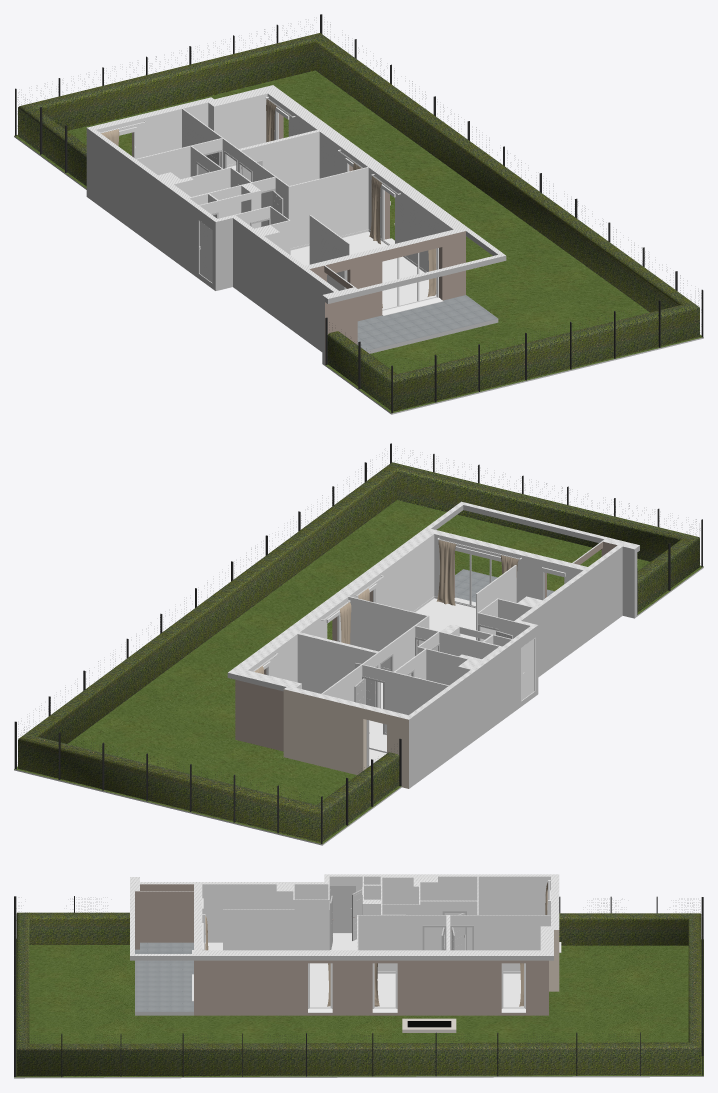
The picture shows the model from 3 angles, top to bottom: view 1: azimuth 30°, elevation 25°; view 2: azimuth 150°, elevation 25°; view 3: azimuth 270°, elevation 25°; orthographic projection. The views are drawn at different scales.
Parts seen in each view (by area): view 1: masonry_01, hedge_01, ground_garden_01, section_face_01, ground_terrace_01, fence_square_01, ground_living_01, door_07, window_french_window_doble_01; view 2: masonry_01, hedge_01, ground_garden_01, section_face_01, fence_square_01, ground_living_01, curtain_05, ground_terrace_01, door_07; view 3: masonry_01, ground_garden_01, hedge_01, section_face_01, ground_terrace_01, fence_square_01, door_07, ground_living_01, ventilacion_01, walltiles_simple_01, ground_bed_02, ground_bed_01 (+6 smaller).
Part boxes in pixels (left/top/right/bottom): masonry_01: left=14, top=93, right=703, bottom=414; hedge_01: left=18, top=33, right=699, bottom=411; ground_garden_01: left=14, top=70, right=703, bottom=413; section_face_01: left=87, top=85, right=505, bottom=298; ground_terrace_01: left=357, top=295, right=497, bottom=350; fence_square_01: left=15, top=14, right=703, bottom=413; ground_living_01: left=290, top=231, right=436, bottom=309; door_07: left=198, top=220, right=212, bottom=283; window_french_window_doble_01: left=382, top=248, right=443, bottom=315; masonry_01: left=14, top=505, right=703, bottom=845; hedge_01: left=18, top=462, right=699, bottom=842; ground_garden_01: left=14, top=500, right=703, bottom=844; section_face_01: left=228, top=501, right=639, bottom=719; fence_square_01: left=14, top=443, right=702, bottom=843; ground_living_01: left=415, top=598, right=475, bottom=639; curtain_05: left=436, top=540, right=518, bottom=605; ground_terrace_01: left=455, top=569, right=554, bottom=602; door_07: left=521, top=637, right=535, bottom=701; masonry_01: left=14, top=876, right=703, bottom=1078; ground_garden_01: left=14, top=939, right=703, bottom=1077; hedge_01: left=16, top=912, right=701, bottom=1076; section_face_01: left=130, top=874, right=559, bottom=955; ground_terrace_01: left=135, top=942, right=193, bottom=1011; fence_square_01: left=14, top=896, right=703, bottom=1077; door_07: left=329, top=886, right=355, bottom=933; ground_living_01: left=310, top=963, right=330, bottom=1007; ventilacion_01: left=402, top=1018, right=456, bottom=1032; walltiles_simple_01: left=420, top=887, right=477, bottom=934; ground_bed_02: left=375, top=973, right=395, bottom=1007; ground_bed_01: left=503, top=973, right=523, bottom=1007.
Size of what is drawn, in the model's own units: 13.03 by 2.7 by 26.85.
Materials: 101 (71 with a texture image).
